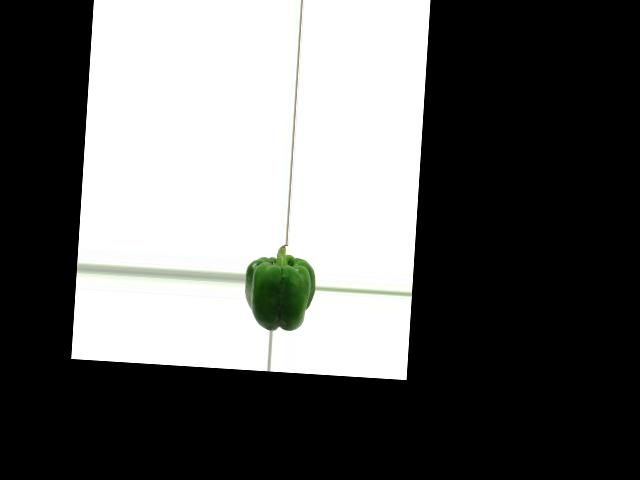bell_pepper: (243, 243, 317, 333)
